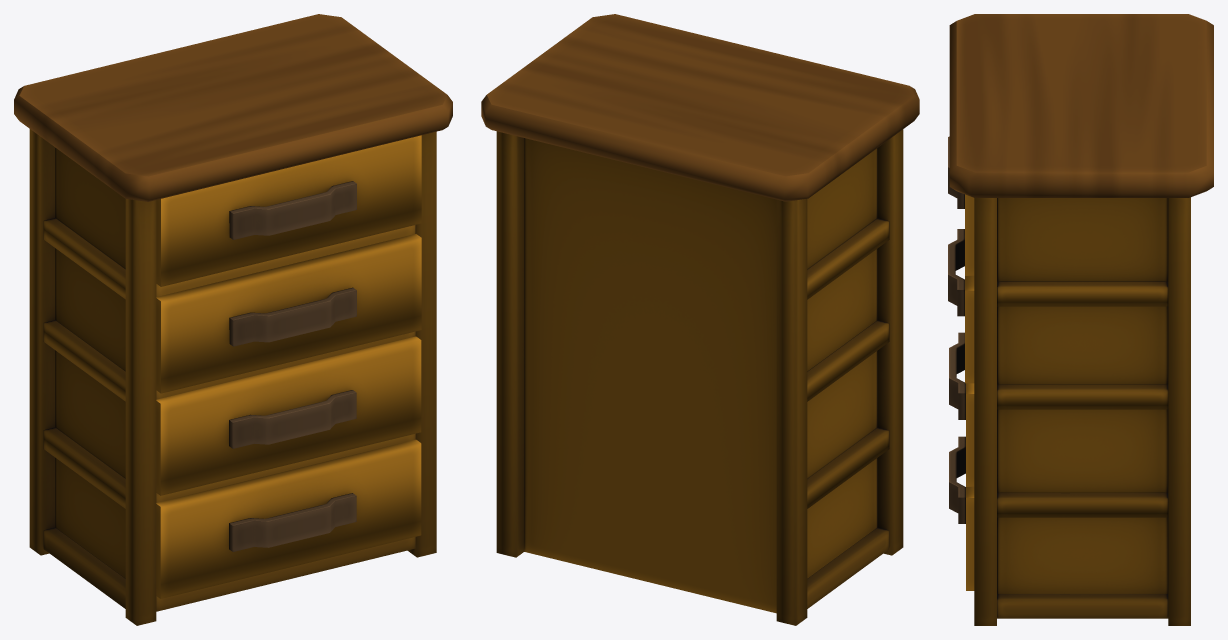
The model's file is Drawer_A.fbx.
The picture shows the model from 3 angles, left to right: view 1: azimuth 30°, elevation 25°; view 2: azimuth 150°, elevation 25°; view 3: azimuth 270°, elevation 25°; orthographic projection.
Visible parts, largest first — view 1: Drawer_A; view 2: Drawer_A; view 3: Drawer_A.
Part boxes in pixels (x1=…): Drawer_A: x1=14, y1=14, x2=452, y2=625; Drawer_A: x1=481, y1=14, x2=919, y2=625; Drawer_A: x1=948, y1=14, x2=1213, y2=625.
Size of the model in its own units: 133 by 176 by 92.52.
Materials: 1 (1 with a texture image).
